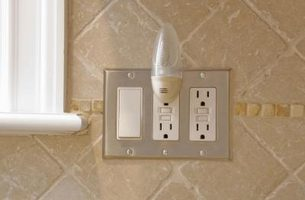outlet: (194, 87, 211, 107), (194, 122, 211, 140), (158, 121, 174, 139)
